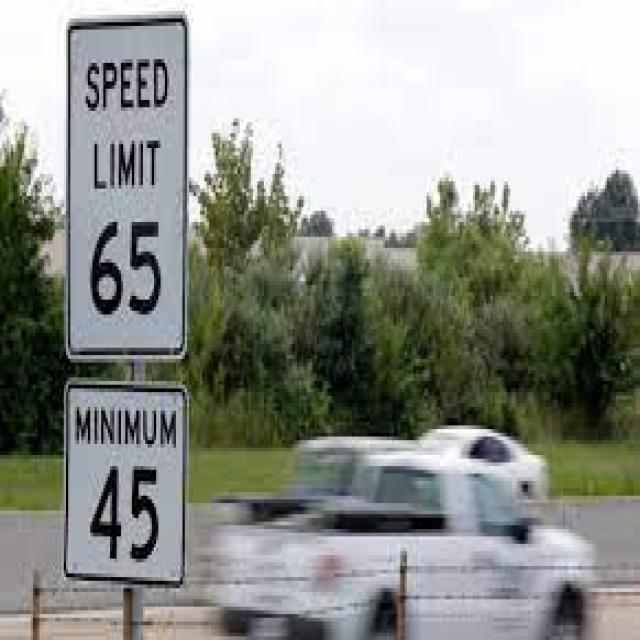speedLimit65: (59, 15, 188, 589)
